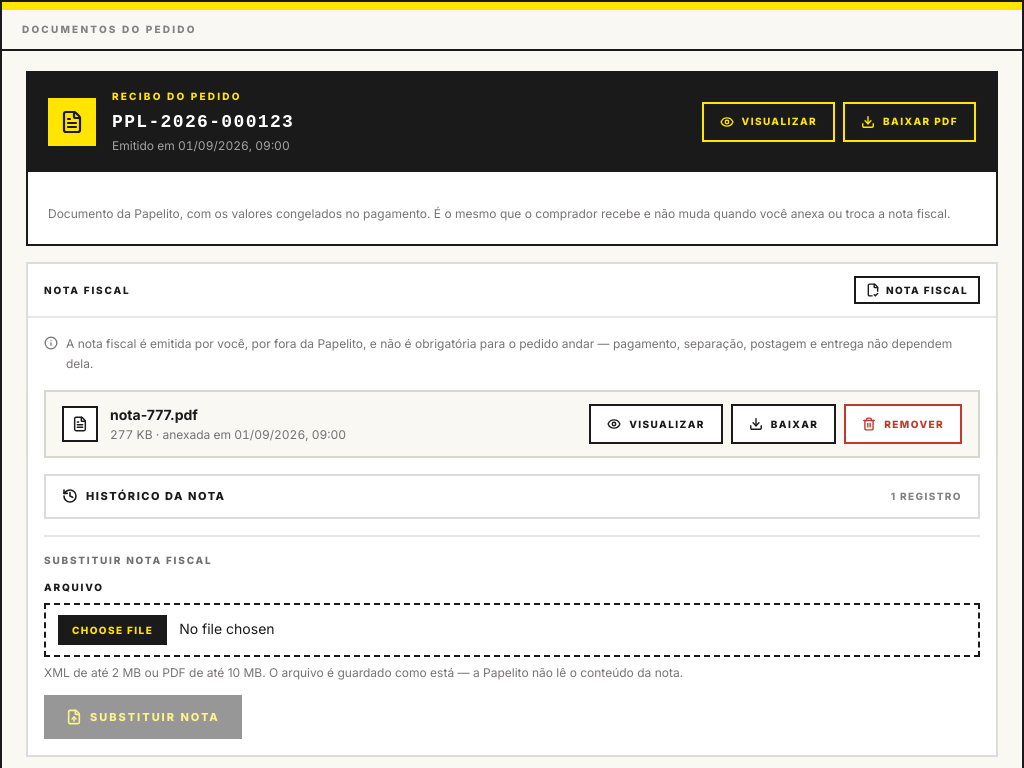
Test case: VendorOrderDocumentsSection › exige confirmação para remover, e remove ao confirmar
Click the button "Remover" at (903, 424), box [844,404,962,444]
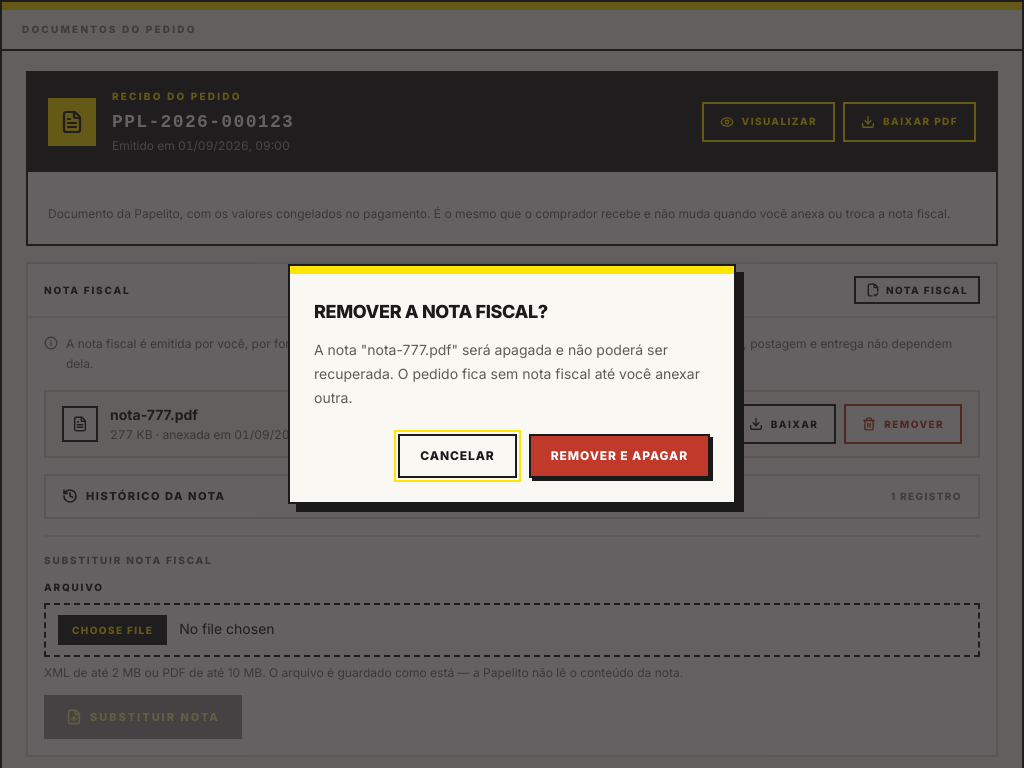
Click the button "Remover e apagar" at (619, 456), box [529,434,710,478]
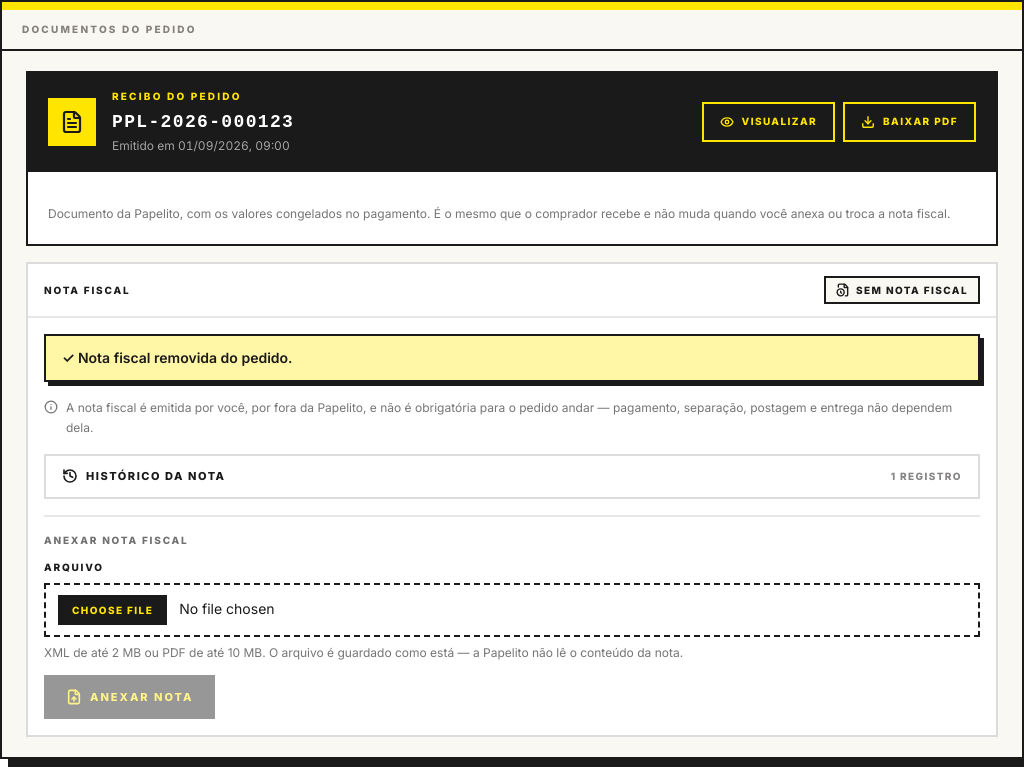
Now the text "✓ Nota fiscal removida do pedido." is shown, box [62,349,293,366]
